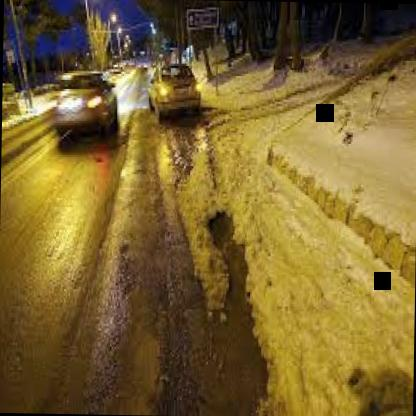car: (38, 67, 122, 151), (145, 56, 208, 127)
